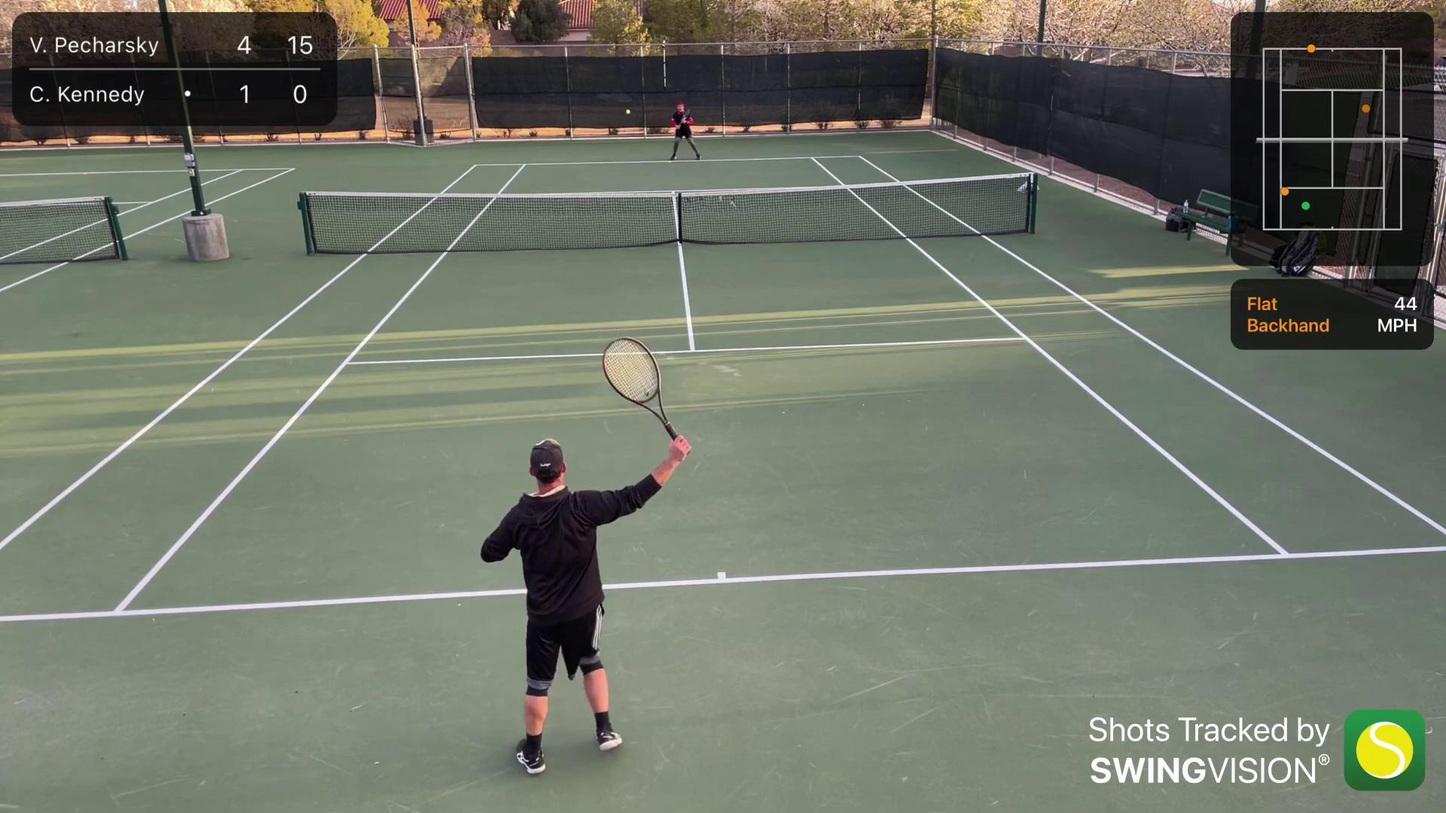ball: (624, 109, 633, 116)
